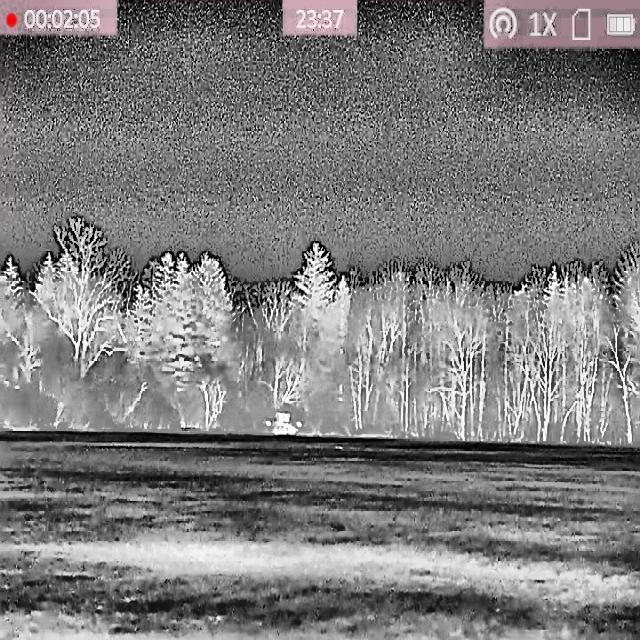drone: (266, 411, 303, 438)
